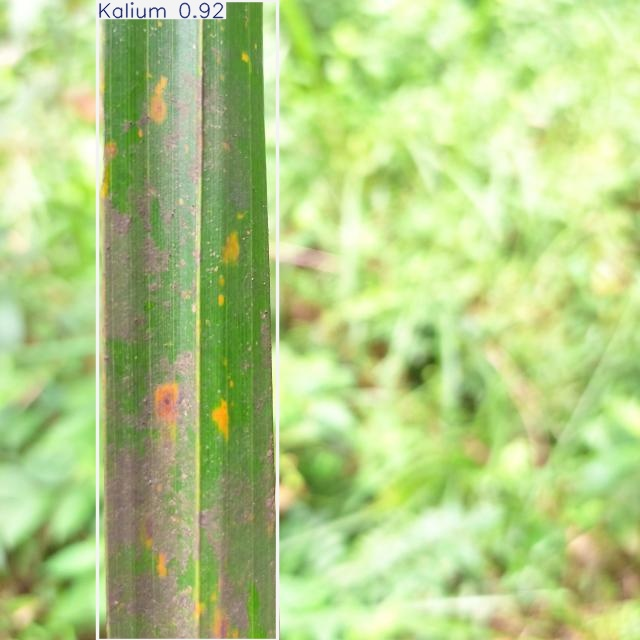Kalium: (98, 0, 278, 640)
